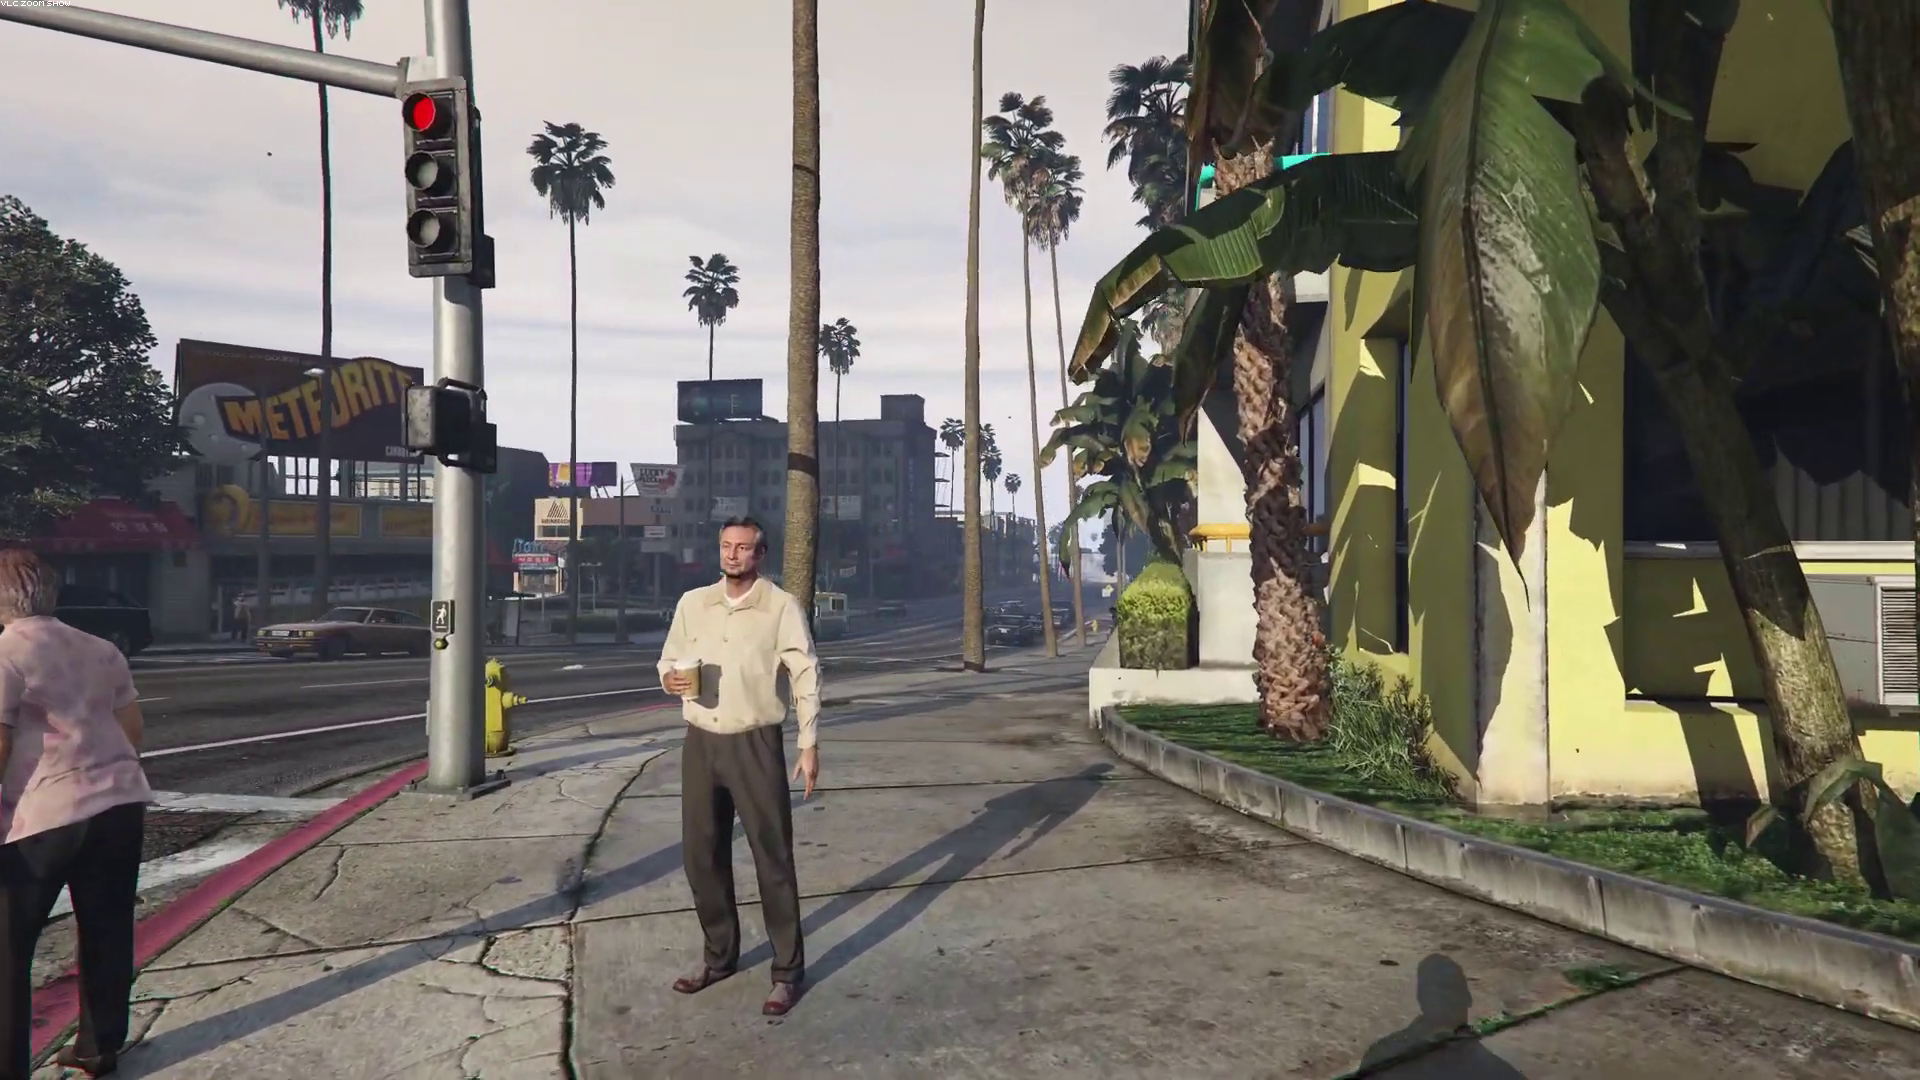car: (258, 605, 433, 661), (985, 614, 1035, 648), (1045, 598, 1073, 621), (876, 599, 904, 617)
person: (659, 516, 826, 1020), (1, 547, 153, 1080), (232, 591, 252, 645)
traffic light: (397, 78, 479, 276), (400, 382, 479, 466)
